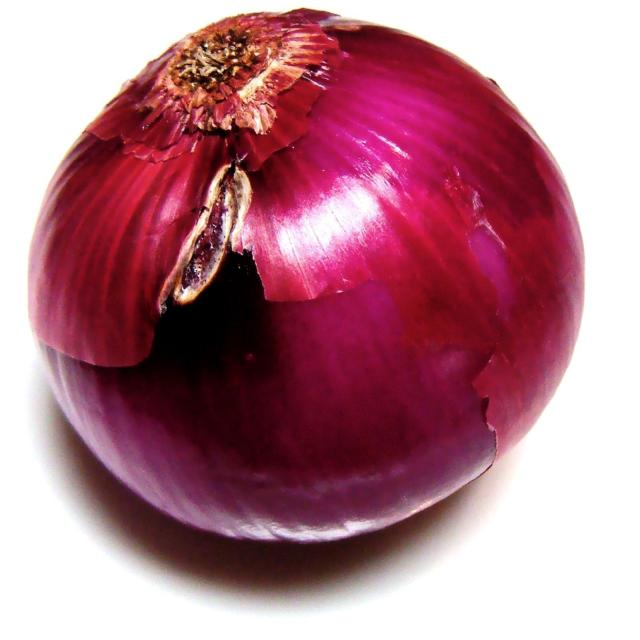Onion: (24, 10, 586, 542)
